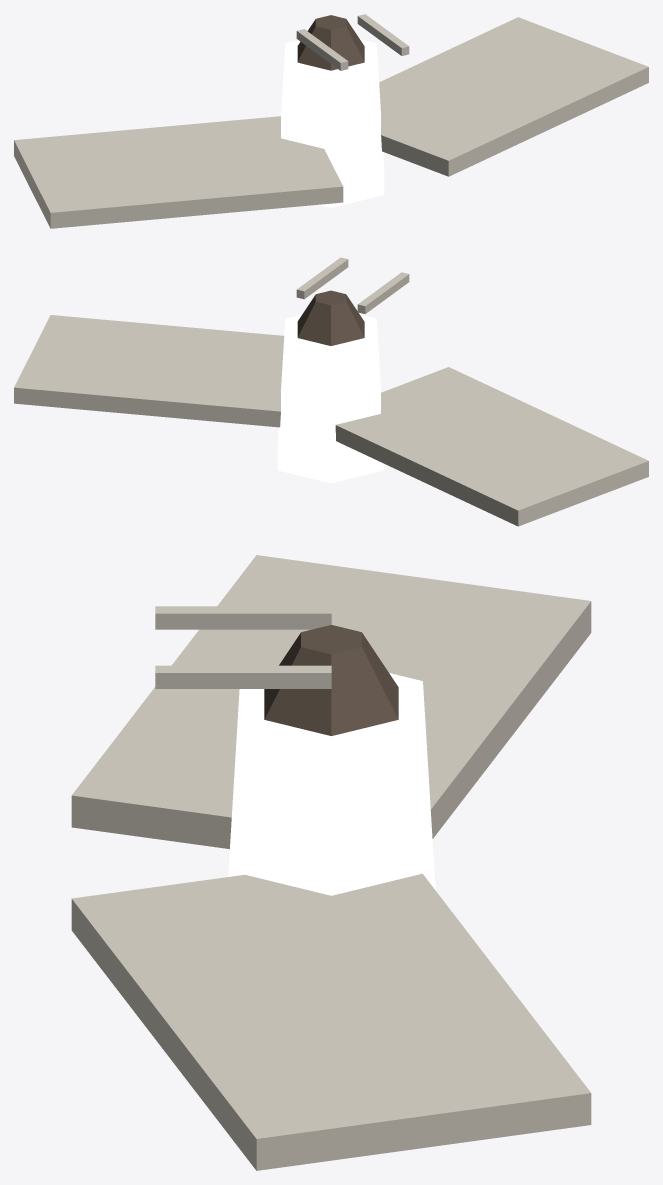
Rendered from hs_lantern_moth.glb.
3 renders of one model, top to bottom at view 1: azimuth 30°, elevation 25°; view 2: azimuth 150°, elevation 25°; view 3: azimuth 270°, elevation 25°, orthographic. The views are drawn at different scales.
Visible parts, largest first — view 1: hs_lantern_moth; view 2: hs_lantern_moth; view 3: hs_lantern_moth.
Boxes of the visible parts, x1,y1,x2,y2 form: hs_lantern_moth: (14,14,648,228); hs_lantern_moth: (14,257,648,526); hs_lantern_moth: (71,555,591,1170).
Bounding box in the file's own units: 0.7852 × 0.2 × 0.2953.
